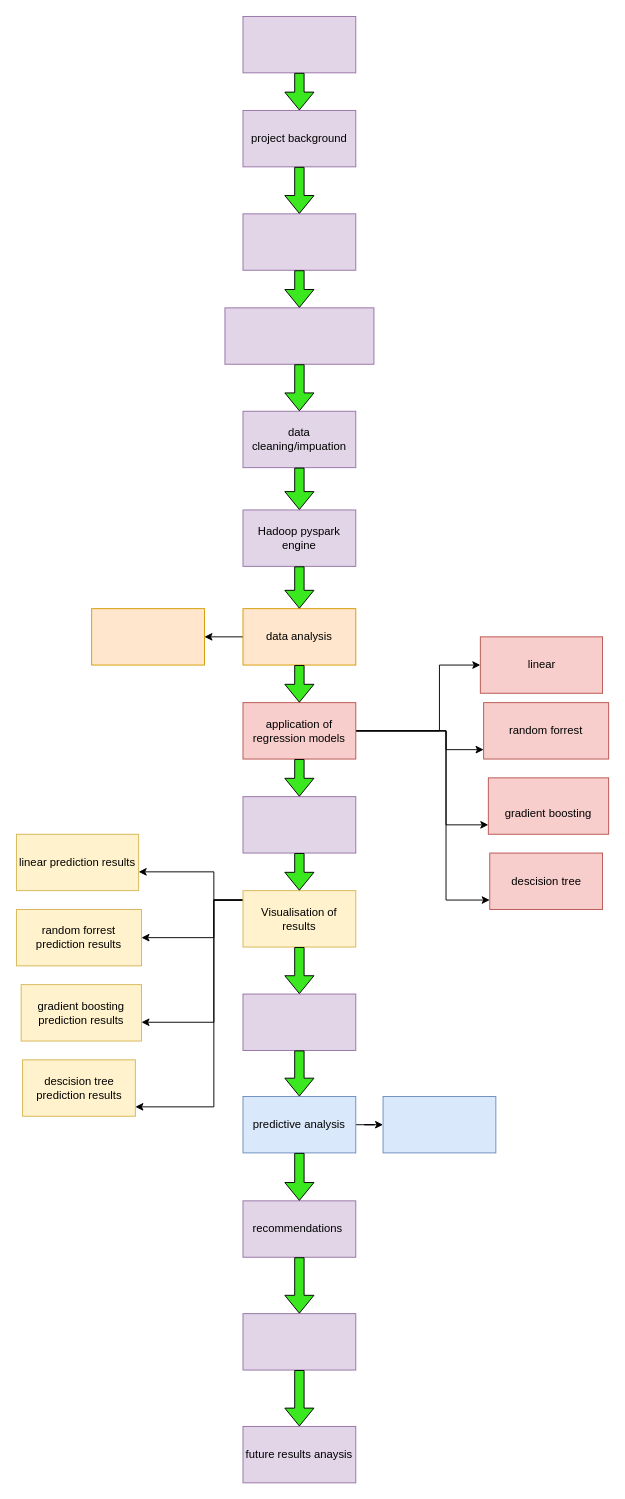
The diagram is 625 pixels wide and 1499 high, and some of its shapes have lost their labels. The box of each missing label's shape, as (x1, y1, x2, y2) in pixels:
comparative analysis: (242, 993, 356, 1050)
Data Demonstration/exploration: (224, 307, 374, 364)
dataset: (242, 213, 356, 270)
implications of professional practice: (242, 1313, 356, 1370)
Introduction: (242, 16, 356, 73)
measure accuracy,performance metrics: (242, 796, 356, 853)
Research question: (91, 608, 204, 665)
test result of results with dummy values: (382, 1096, 496, 1153)
